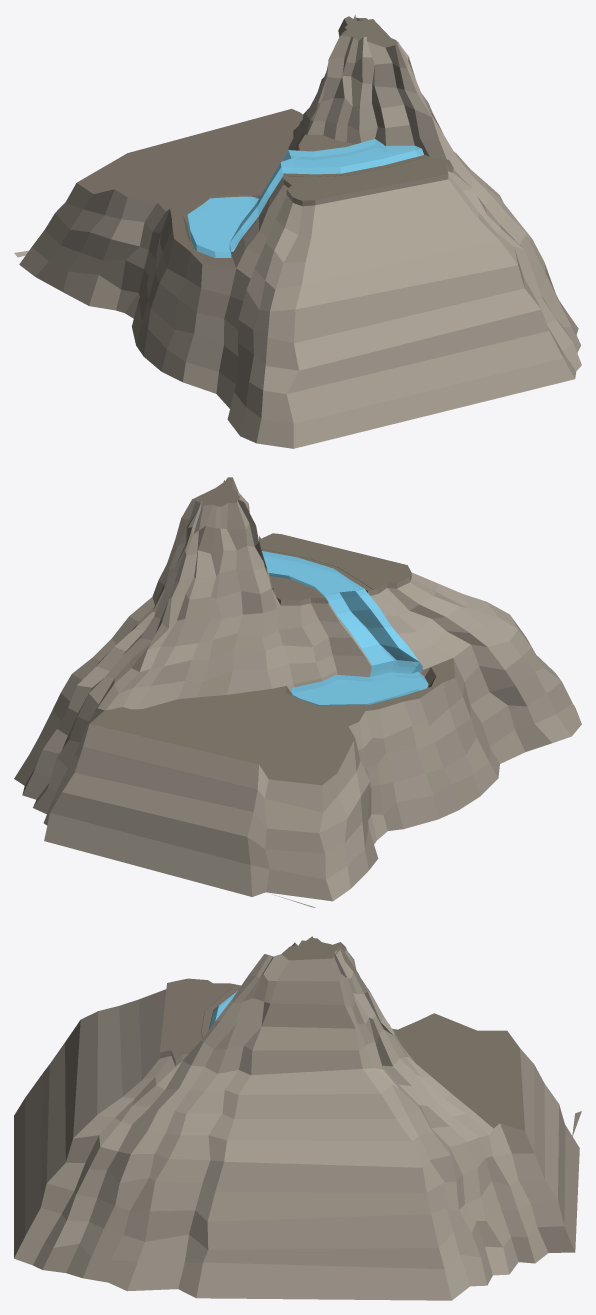
Rendered from MOUNTAIN3.fbx.
3 renders of one model, top to bottom at view 1: azimuth 30°, elevation 25°; view 2: azimuth 150°, elevation 25°; view 3: azimuth 270°, elevation 25°, orthographic. The views are drawn at different scales.
Parts seen in each view (by area): view 1: Plane.012; view 2: Plane.012; view 3: Plane.012.
Part boxes in pixels (box(x1,y1,x2,y2)): Plane.012: box(14, 14, 581, 448); Plane.012: box(14, 477, 581, 907); Plane.012: box(14, 936, 581, 1300).
Bounding box in the file's own units: 8724 × 6033 × 10843.
